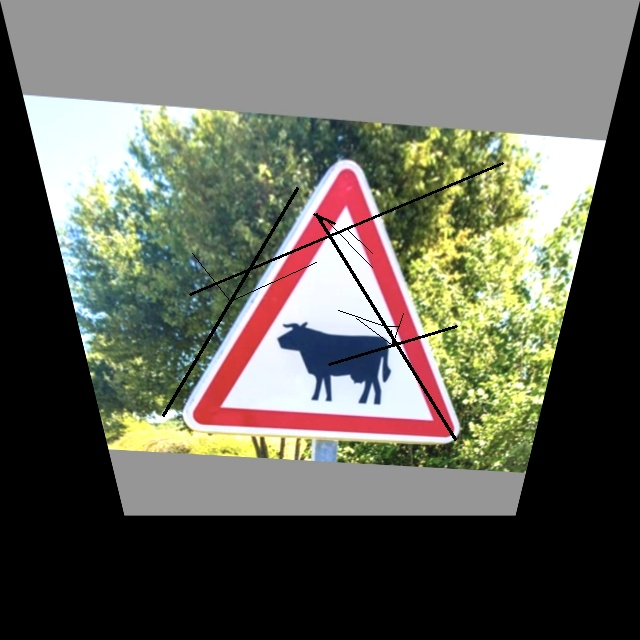Cattle: (160, 157, 529, 445)
